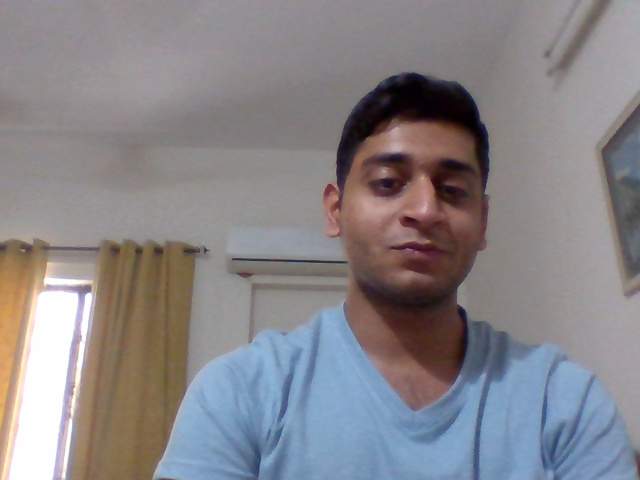neutral: (349, 126, 484, 305)
